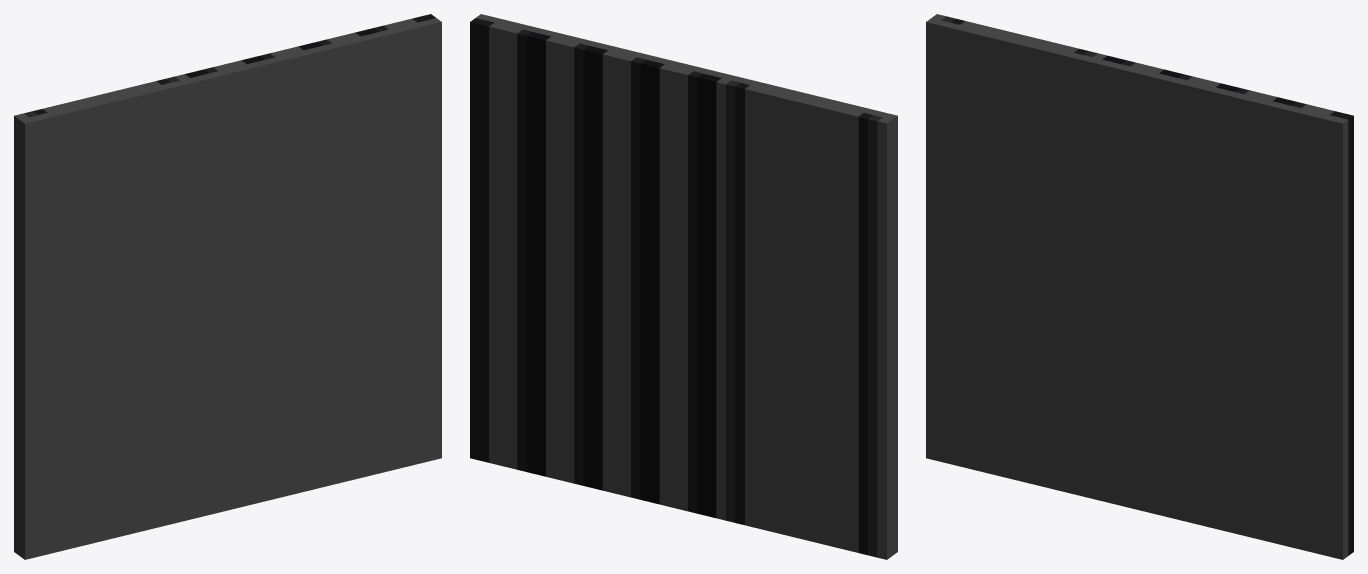
The model's file is mesh_hanger_wall_grid_straight_mid.obj.
3 renders of one model, left to right at view 1: azimuth 30°, elevation 25°; view 2: azimuth 150°, elevation 25°; view 3: azimuth 330°, elevation 25°, orthographic.
Bounding box in the file's own units: 4.4 × 4.4 × 0.2.
1 material, 1 textured.
